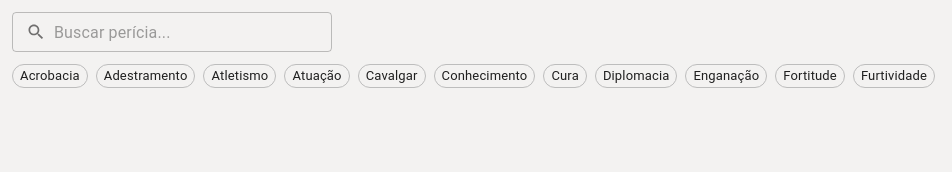
SkillChipSelector › exibe mensagem quando nenhuma perícia corresponde à busca
This screenshot has width=952, height=172.
Type "xyz" into the field with placeholder "Buscar perícia..." at (193, 32), box [54,12,332,52]
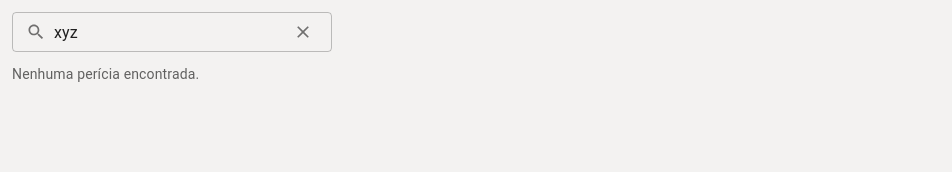
Check: the text "Nenhuma perícia encontrada." is shown, box [12,64,199,84]
